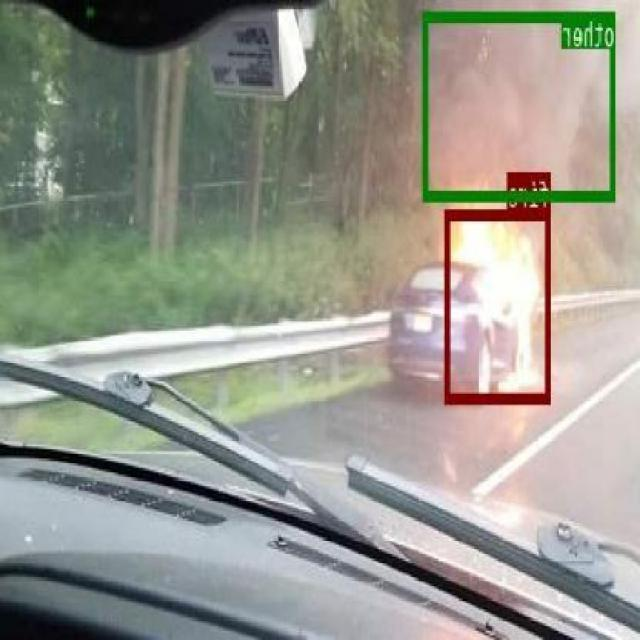Fire: (446, 208, 552, 400)
Smoke: (410, 19, 620, 202)
